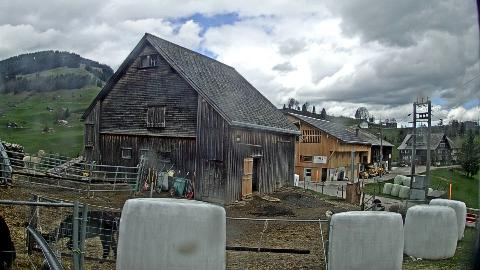sheep: (32, 210, 118, 262), (0, 214, 18, 270), (388, 204, 412, 220), (324, 210, 336, 222), (372, 198, 382, 208)
